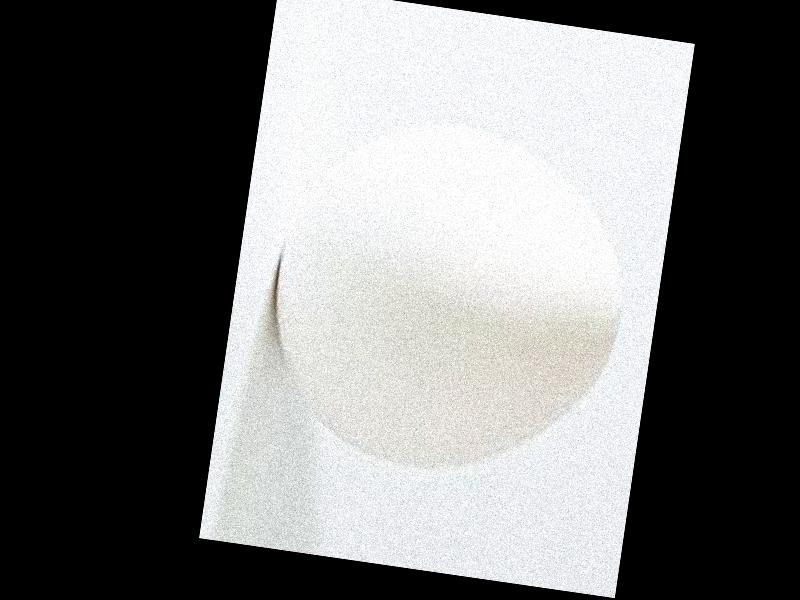Eggs: (254, 105, 646, 489)
